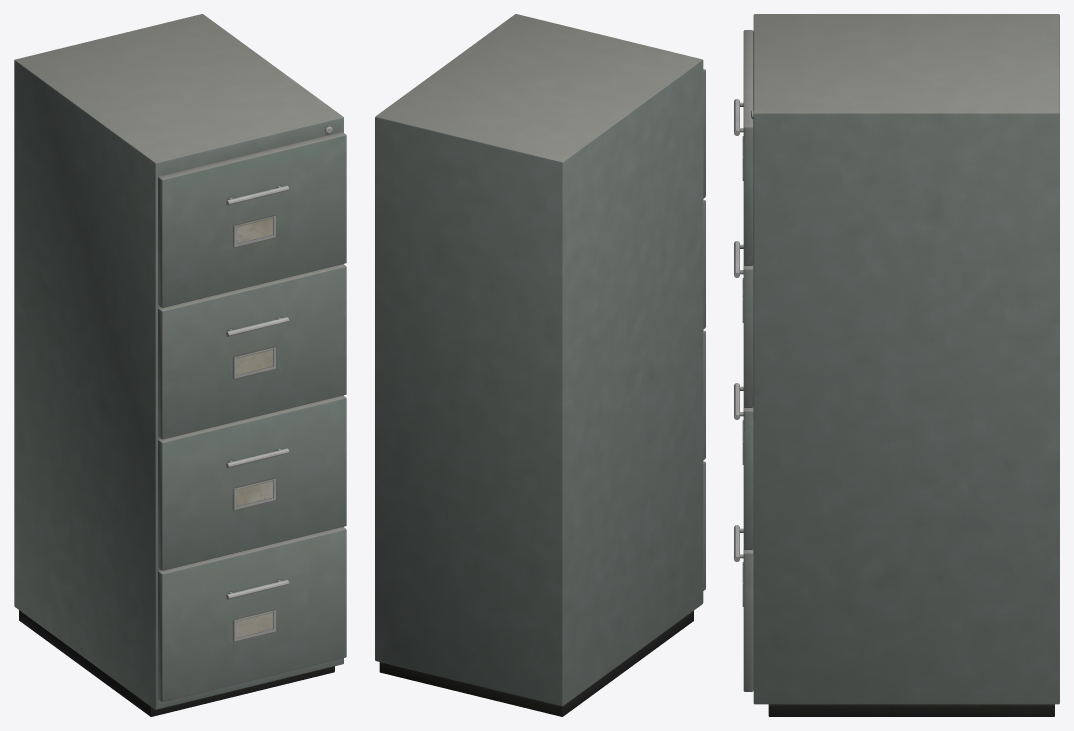
Rendered from arquivo_aco.glb.
3 views of the same model, side by side, from view 1: azimuth 30°, elevation 25°; view 2: azimuth 150°, elevation 25°; view 3: azimuth 270°, elevation 25° (orthographic). The views are drawn at different scales.
Visible parts, largest first — view 1: corpo, gaveta_4, gaveta_2, gaveta_3, gaveta_1; view 2: corpo; view 3: corpo, gaveta_4, gaveta_1, gaveta_2, gaveta_3.
Boxes of the visible parts, x1,y1,x2,y2 form: corpo: [14, 14, 343, 716]; gaveta_4: [158, 132, 346, 307]; gaveta_2: [158, 395, 346, 570]; gaveta_3: [158, 264, 346, 439]; gaveta_1: [158, 527, 346, 701]; corpo: [375, 14, 703, 716]; corpo: [751, 14, 1059, 716]; gaveta_4: [734, 30, 753, 265]; gaveta_1: [734, 525, 753, 691]; gaveta_2: [734, 383, 753, 549]; gaveta_3: [734, 241, 753, 407].
Size of the model in its own units: 0.47 by 1.33 by 0.649.
2 materials, 2 textured.
